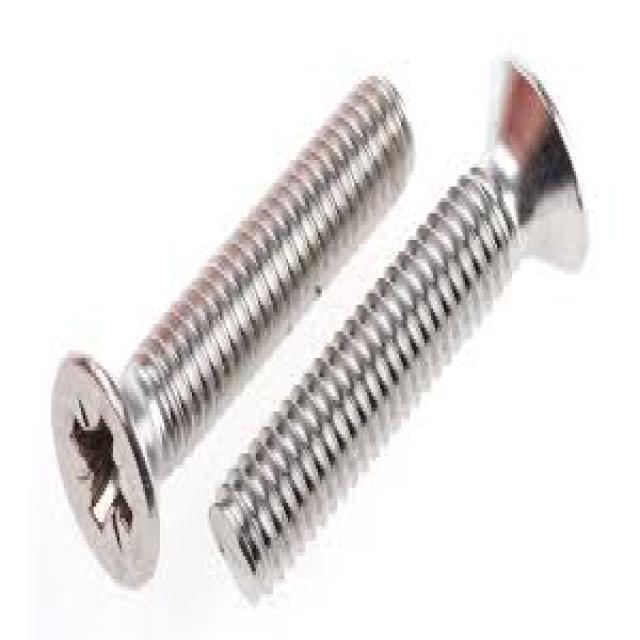Screw: (209, 57, 589, 606), (49, 76, 416, 594)
